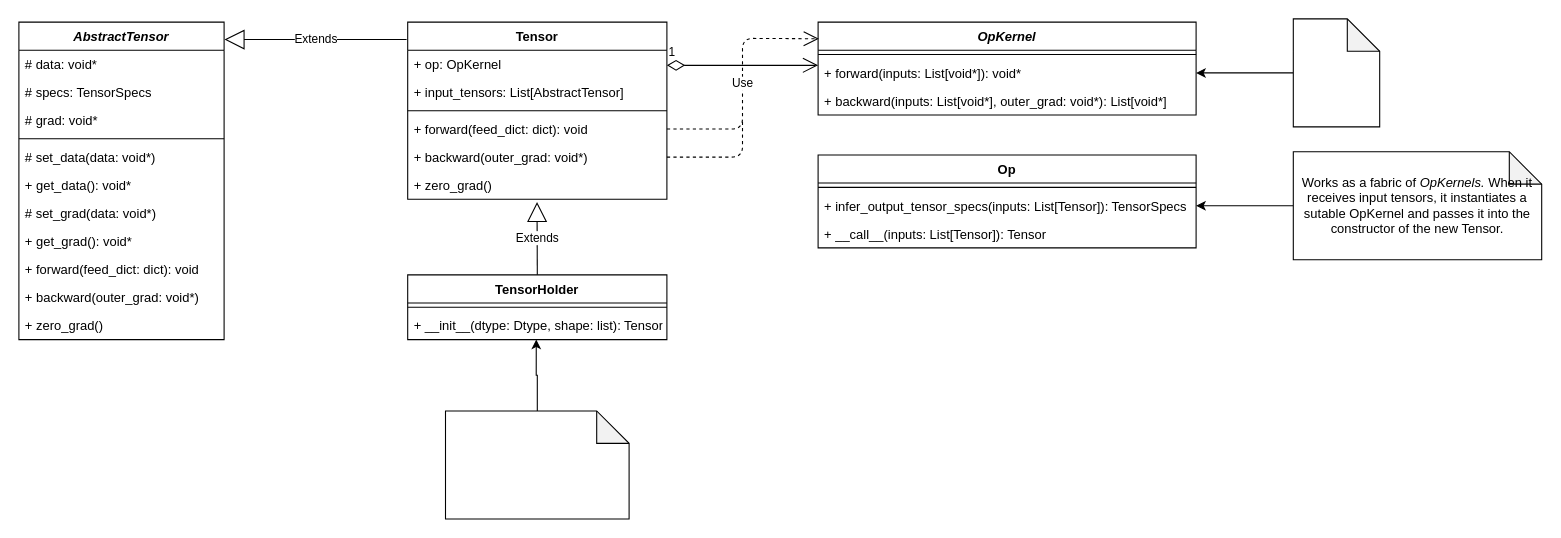
Some shapes in this 1561 by 538 pixel diagram are drawn without their labels. Here are the shapes that lost their labels. From the top down, the centre of each, then its label:
At point (1336, 72): "Does the actual computation.".
At point (536, 464): "Serves as an entry point in the computational graph.".
